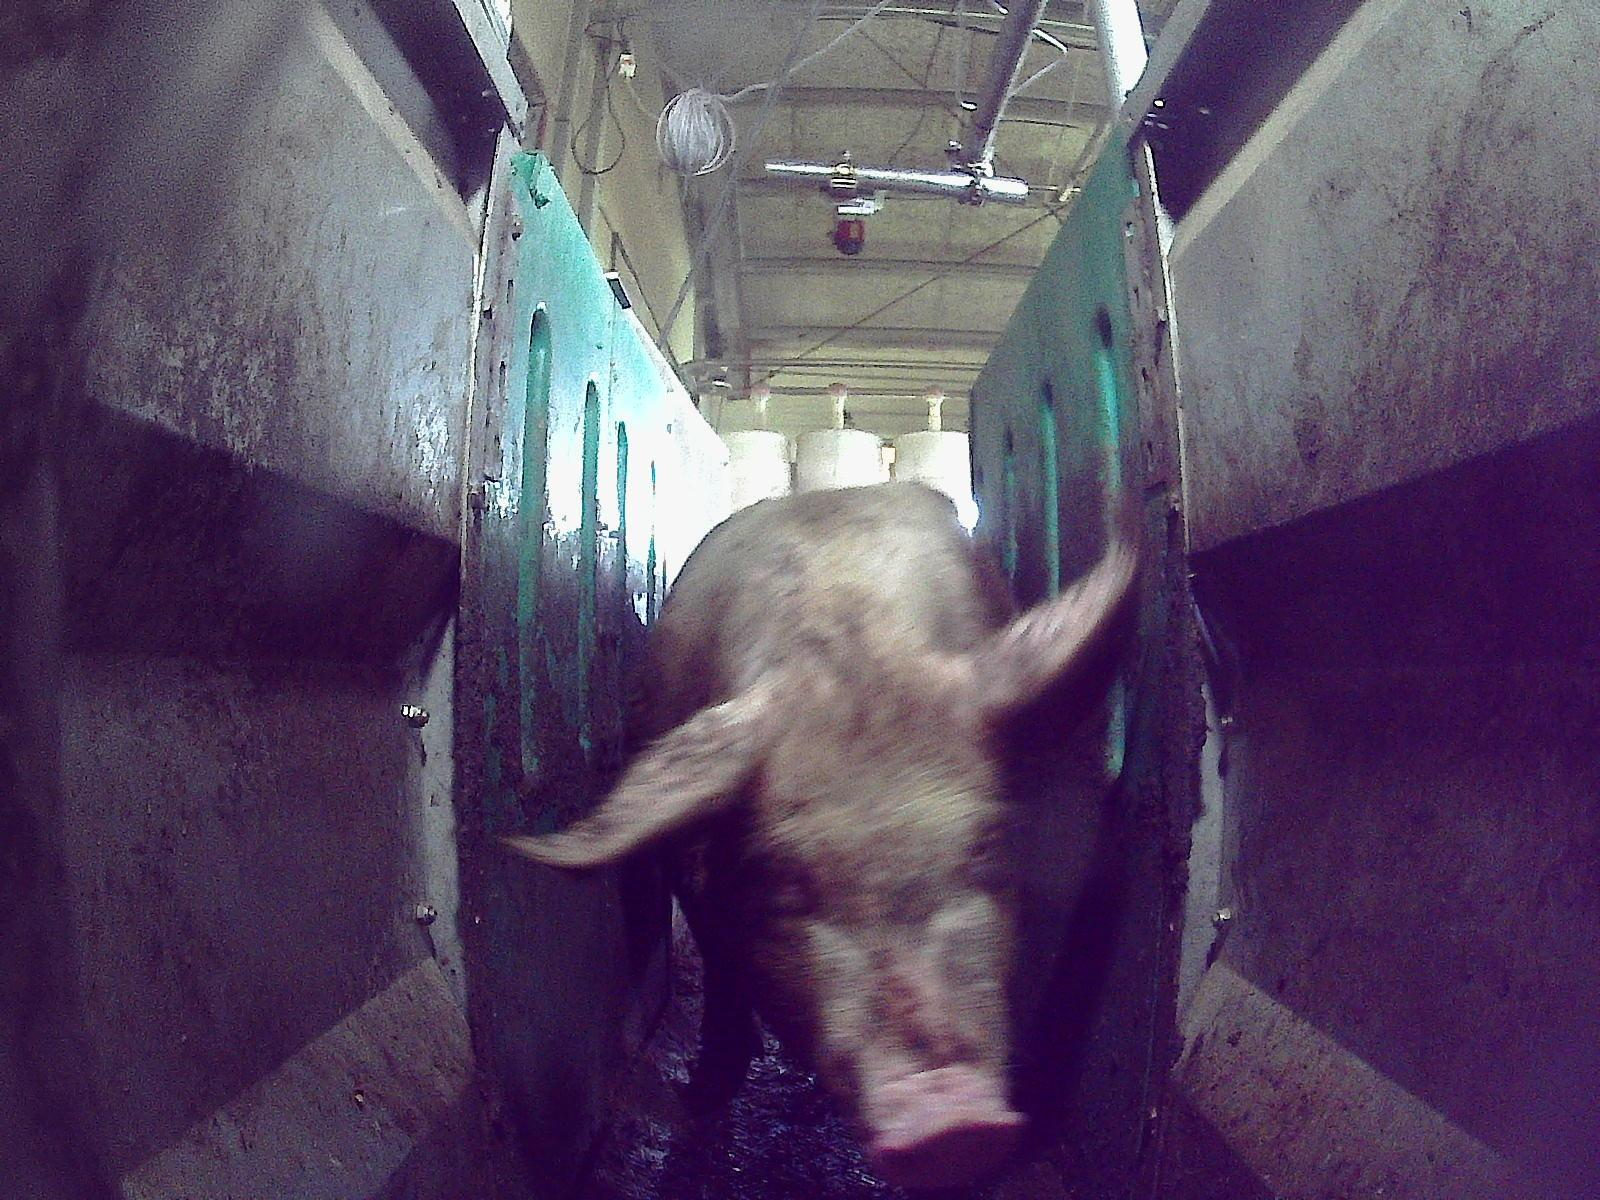Face: (710, 640, 1032, 1190)
